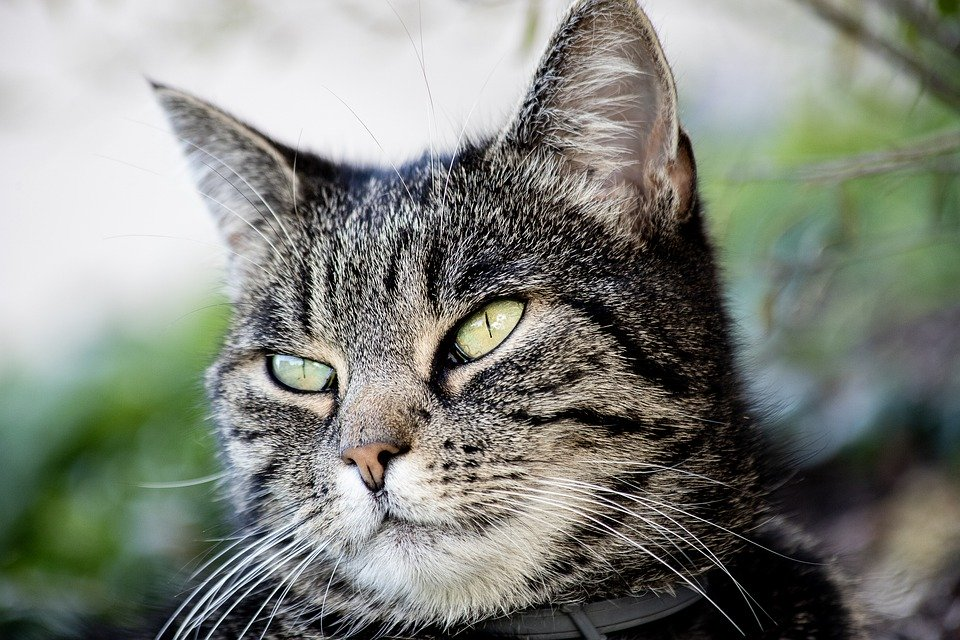cat-face: (120, 7, 829, 620)
